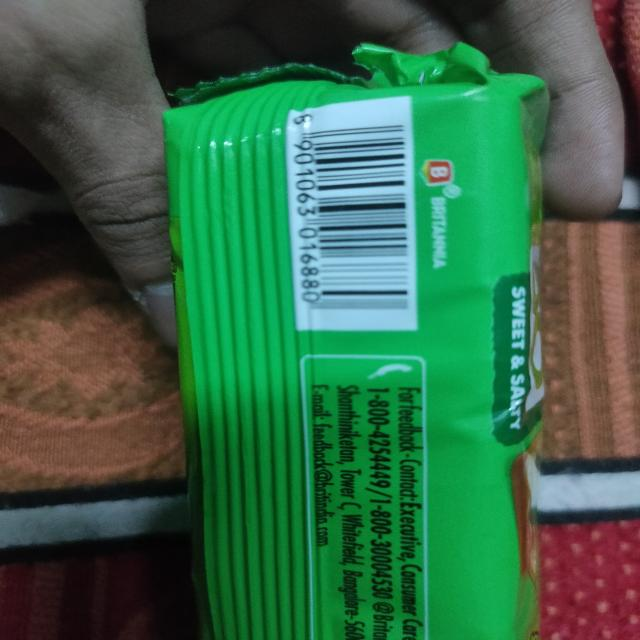biscuit: (164, 41, 585, 640)
